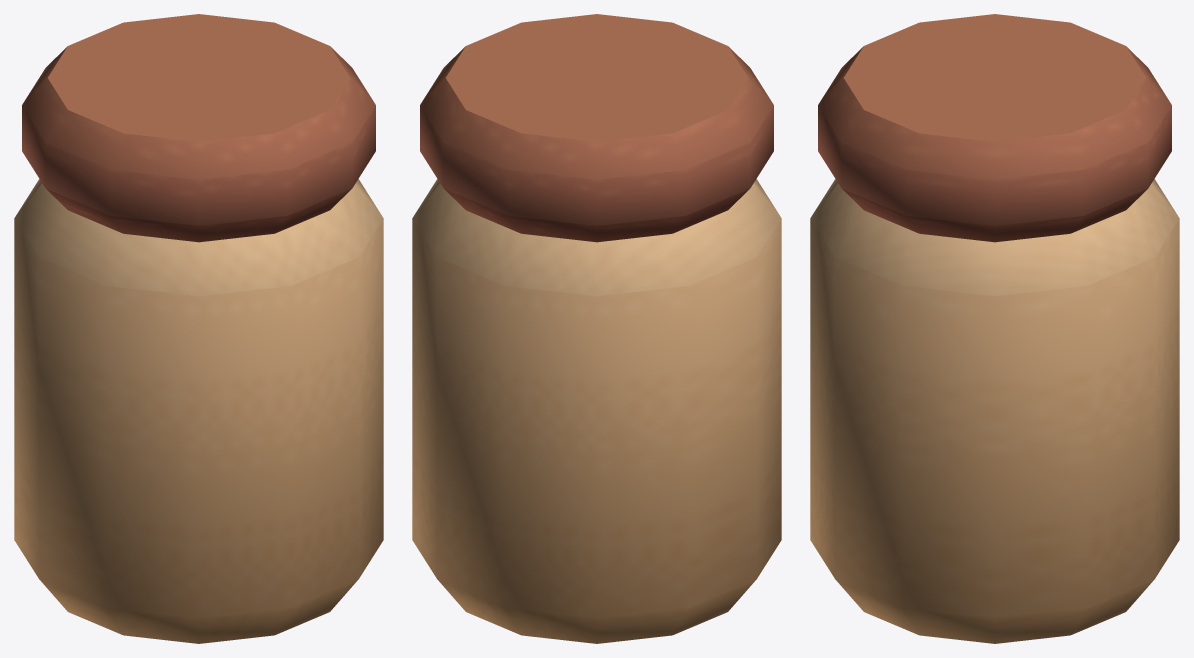
Rendered from jar_C_large.gltf.
The picture shows the model from 3 angles, left to right: view 1: azimuth 30°, elevation 25°; view 2: azimuth 150°, elevation 25°; view 3: azimuth 270°, elevation 25°; orthographic projection.
Visible parts, largest first — view 1: jar_C_large; view 2: jar_C_large; view 3: jar_C_large.
Part boxes in pixels (x1=…): jar_C_large: x1=14, y1=14, x2=383, y2=643; jar_C_large: x1=412, y1=14, x2=781, y2=643; jar_C_large: x1=810, y1=14, x2=1179, y2=643.
Size of the model in its own units: 0.5 by 0.75 by 0.5.
Materials: 1 (1 with a texture image).
